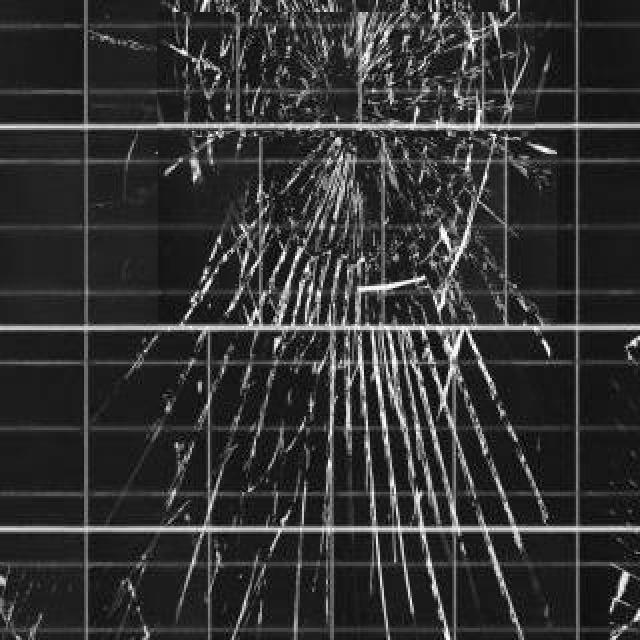Physical-damage: (158, 137, 557, 326), (160, 343, 563, 526), (157, 12, 535, 131), (163, 537, 557, 634)
